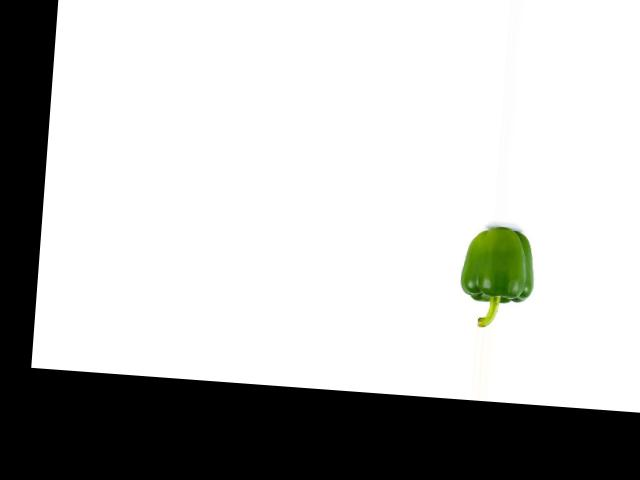bell_pepper: (456, 224, 548, 329)
